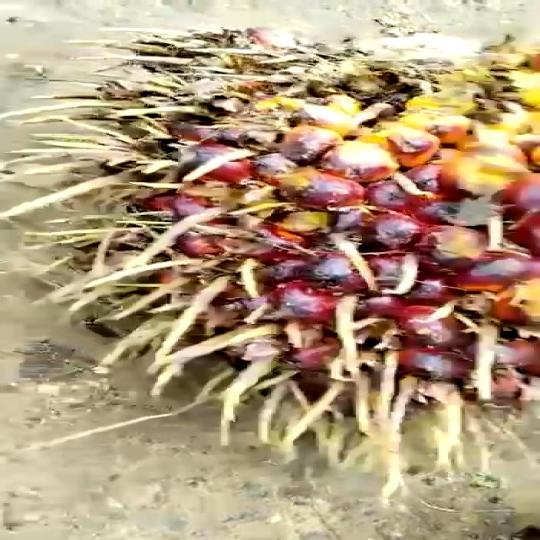masak: (84, 41, 540, 434)
